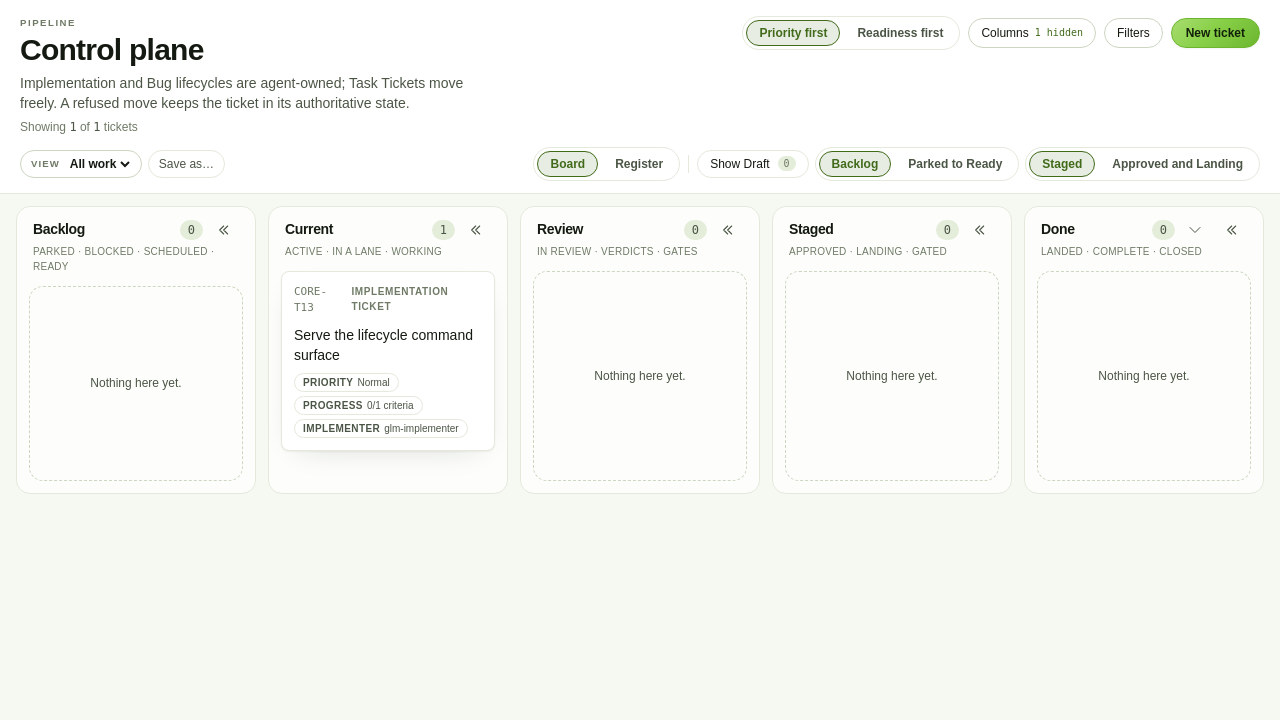
Test case: ticket drawer › embeds the timeline scoped to the open ticket
Click the button "Serve the lifecycle command surface".
click(388, 345)  # box 294,325 -> 482,365
(page scrolled)
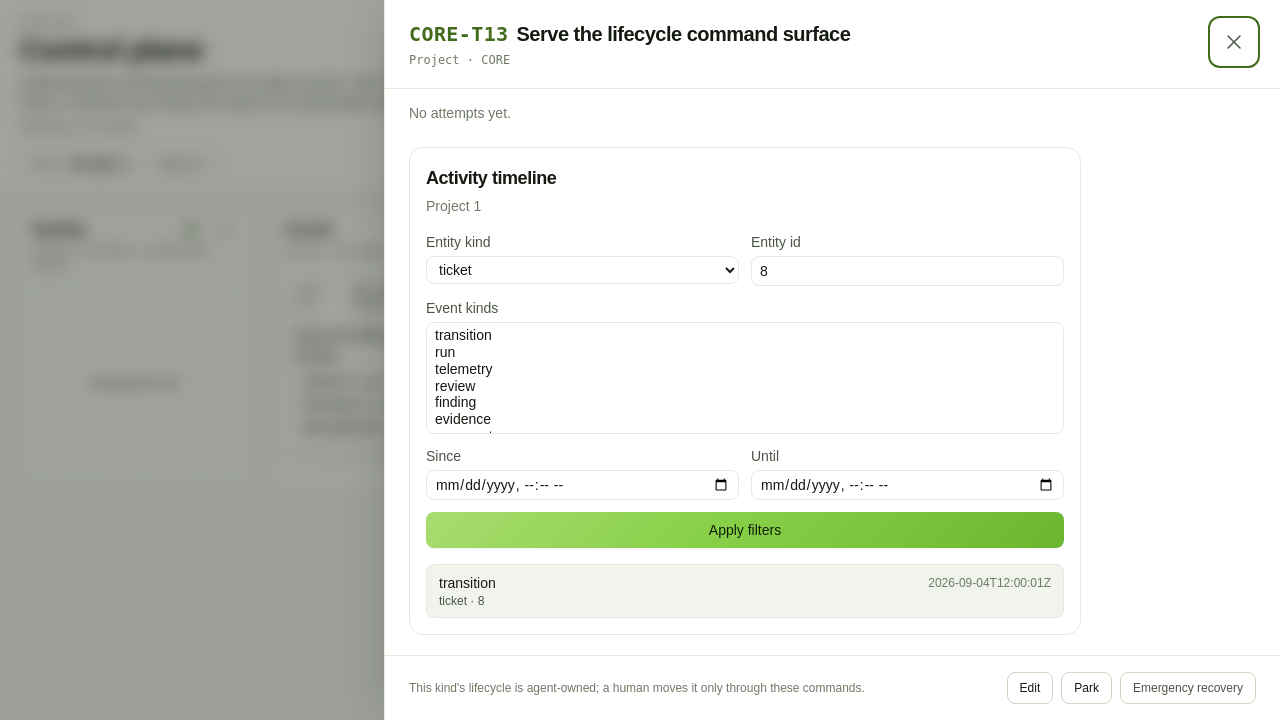
Expected: the element with test id "drawer-timeline" is shown, 409,147 -> 1081,635
Expected: the list item with test id "timeline-event-1" shows "transition", 439,575 -> 496,591
